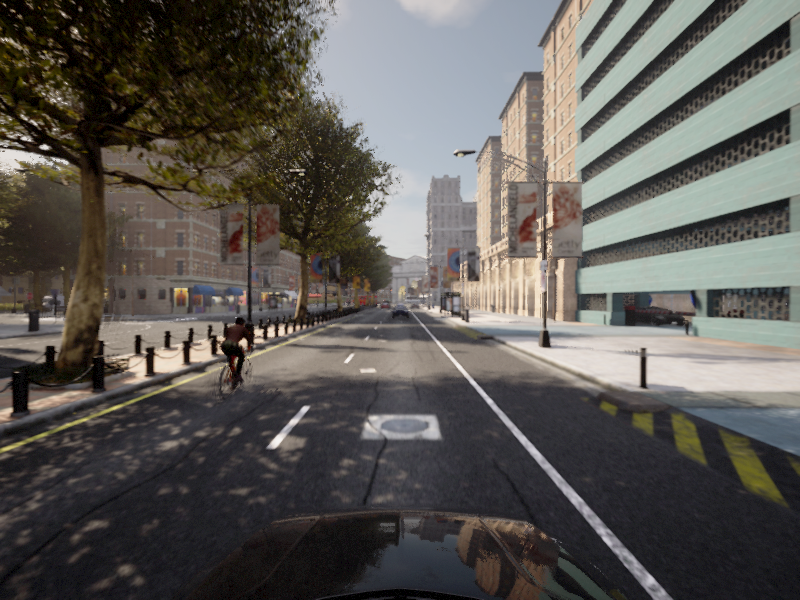vehicle: (204, 316, 264, 403), (391, 305, 409, 318), (301, 302, 311, 316)
